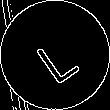L_NW: (28, 25, 82, 85)
